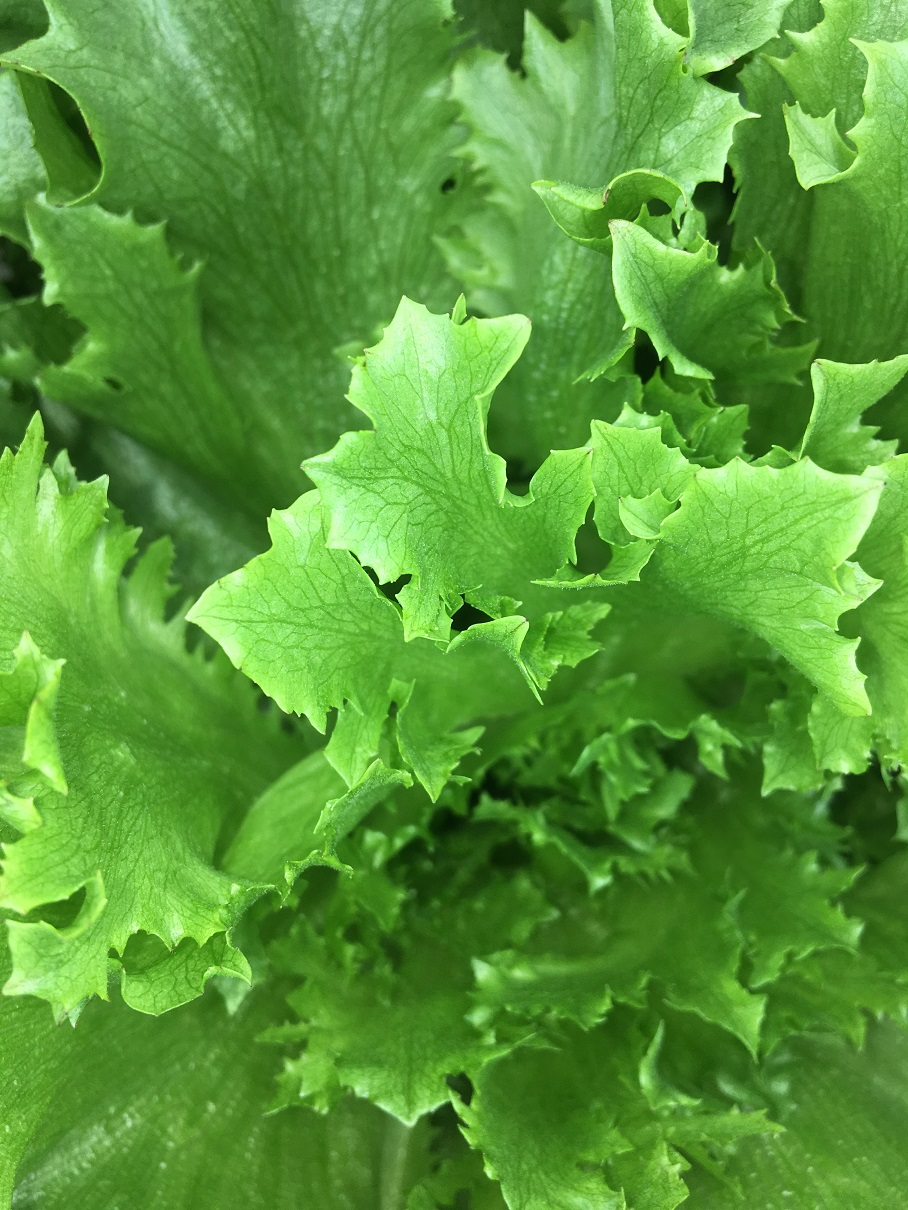tipburn: (6, 50, 52, 95), (860, 460, 896, 501), (587, 176, 627, 212), (75, 115, 111, 152), (667, 38, 698, 76), (344, 334, 382, 365), (597, 214, 626, 241)
